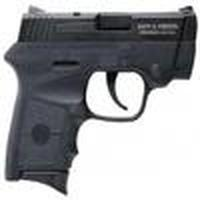gun: (3, 9, 192, 188)
